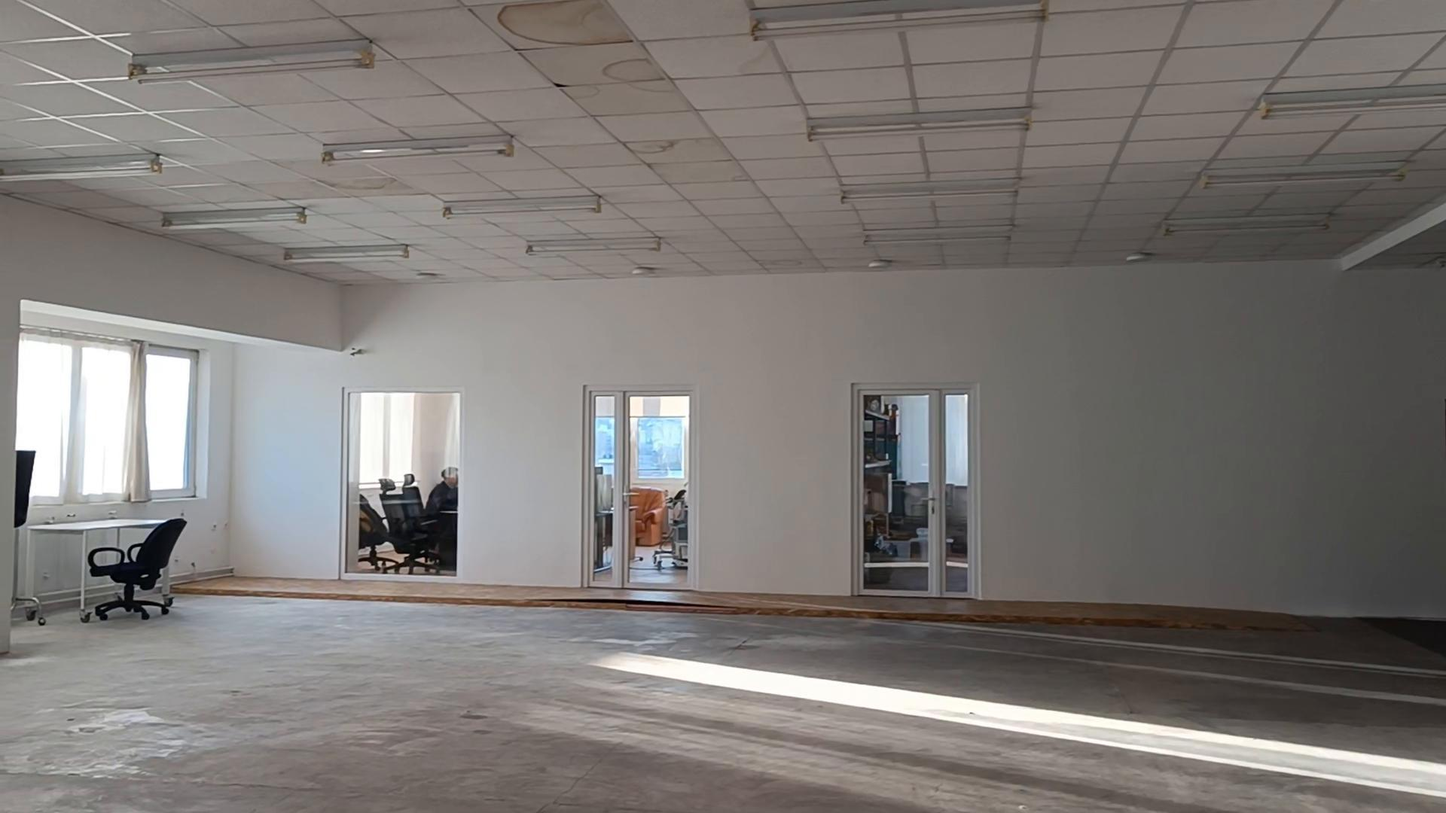ceiling: (0, 0, 1445, 281)
floor: (0, 595, 1445, 812)
wall: (1, 197, 1443, 646)
